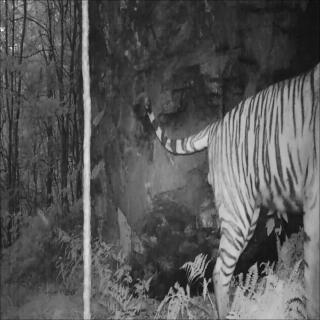Tiger: (140, 62, 320, 317)
